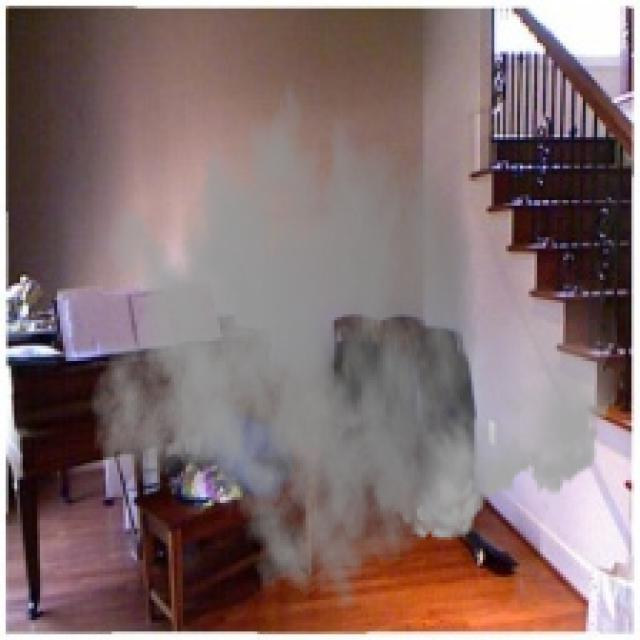smoke: (89, 54, 626, 612)
